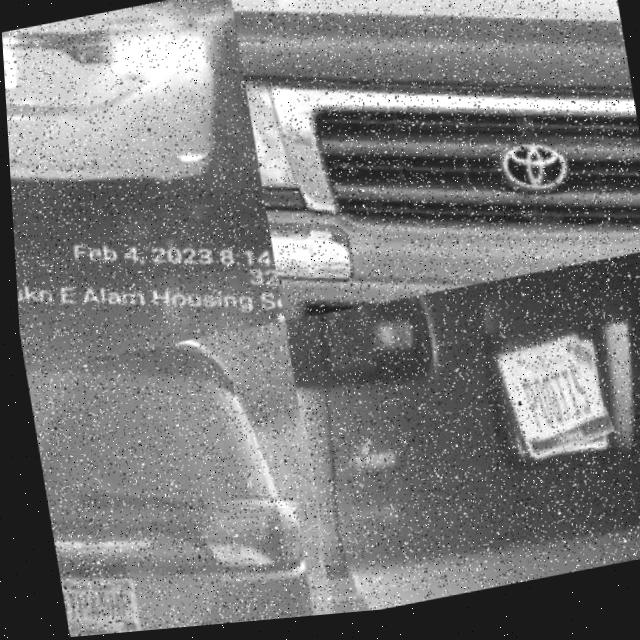LicensePlate: (484, 337, 603, 467), (52, 574, 126, 632)
